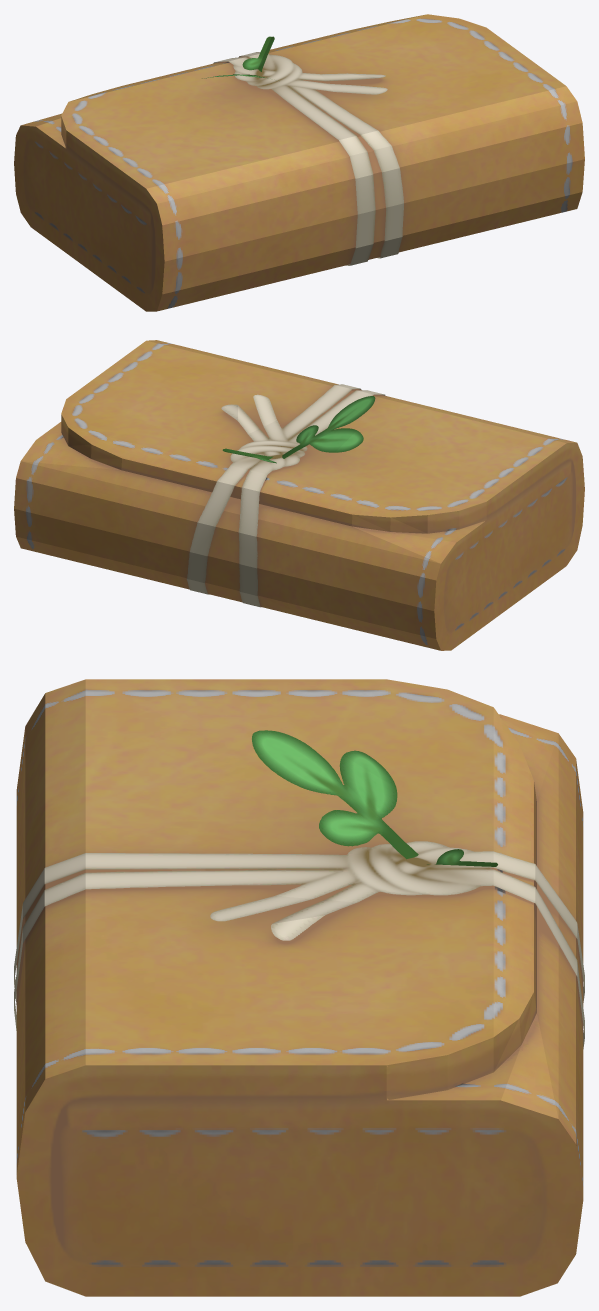
File: P_Wallet_001_S1_M02.obj
3 views of the same model, one above another, from view 1: azimuth 30°, elevation 25°; view 2: azimuth 150°, elevation 25°; view 3: azimuth 270°, elevation 25° (orthographic). The views are drawn at different scales.
Size of the model in its own units: 0.5 by 0.1919 by 0.3126.
1 material, 1 textured.
